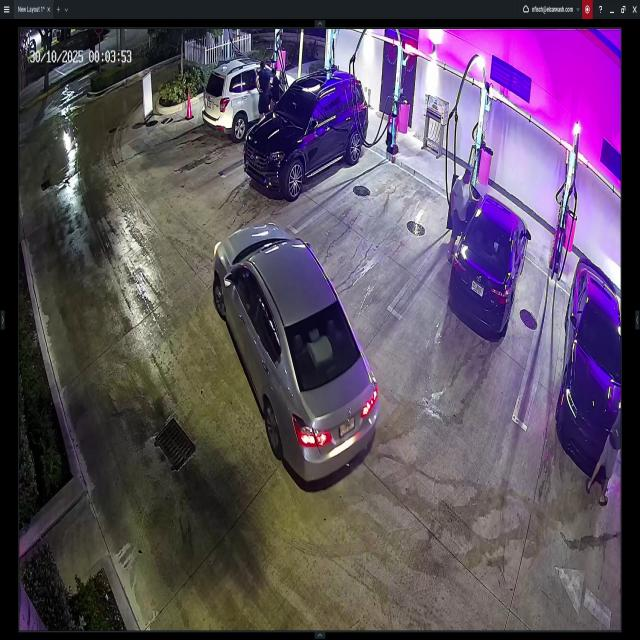Car: (212, 224, 376, 479), (245, 69, 368, 195), (556, 263, 627, 477), (454, 175, 530, 336), (203, 56, 305, 140)
